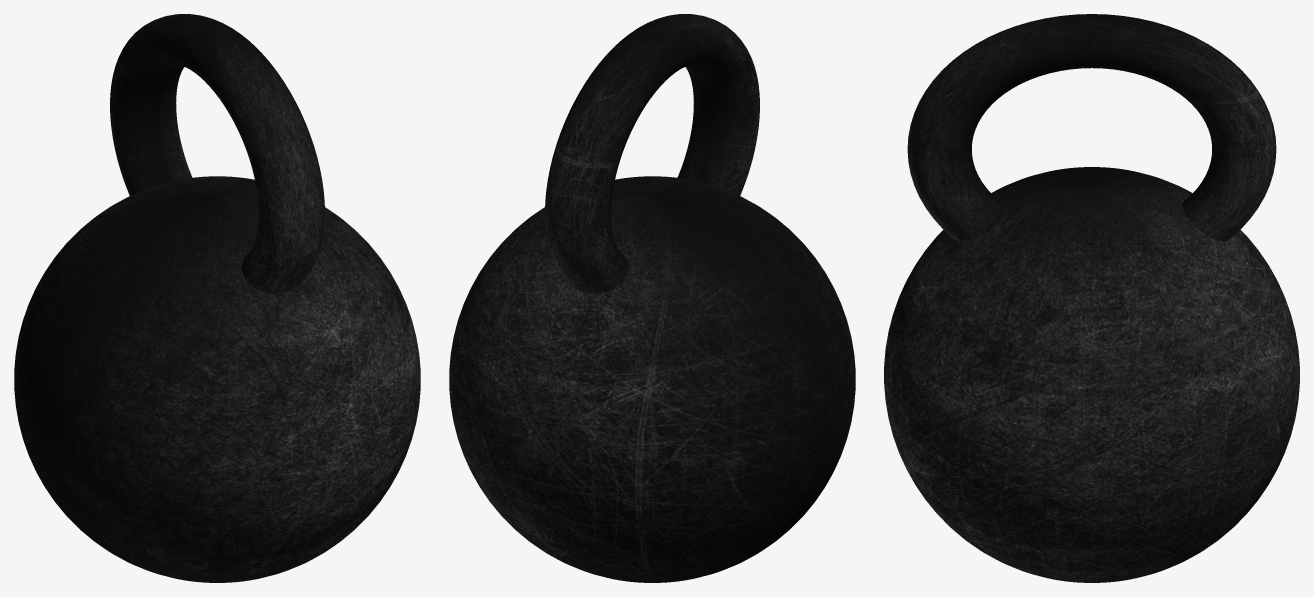
File: Weight.fbx
The picture shows the model from 3 angles, left to right: view 1: azimuth 30°, elevation 25°; view 2: azimuth 150°, elevation 25°; view 3: azimuth 270°, elevation 25°; orthographic projection. The views are drawn at different scales.
Visible parts, largest first — view 1: Sphere, Torus.001; view 2: Sphere, Torus.001; view 3: Sphere, Torus.001.
Boxes of the visible parts, box(x1,y1,x2,y2) form: Sphere: box(14, 176, 420, 582); Torus.001: box(110, 14, 324, 293); Sphere: box(449, 176, 855, 582); Torus.001: box(545, 14, 759, 293); Sphere: box(884, 167, 1299, 582); Torus.001: box(907, 14, 1276, 241).
Size of the model in its own units: 200 by 289 by 200.
2 materials, 2 textured.
